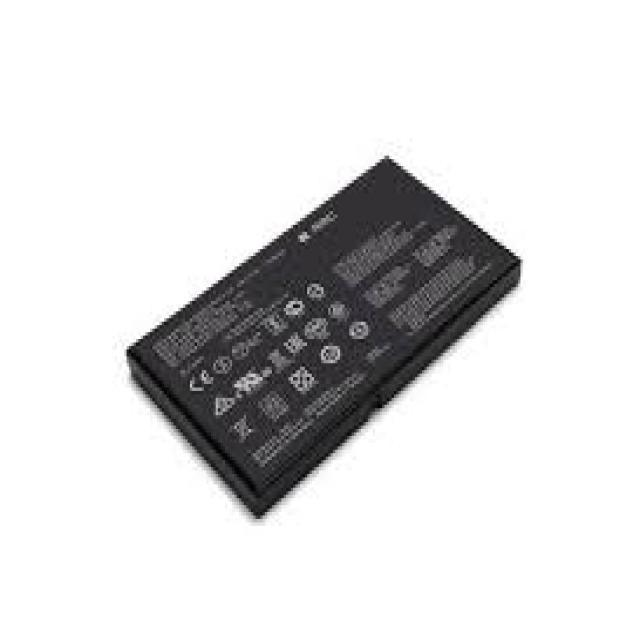battery: (123, 153, 518, 522)
